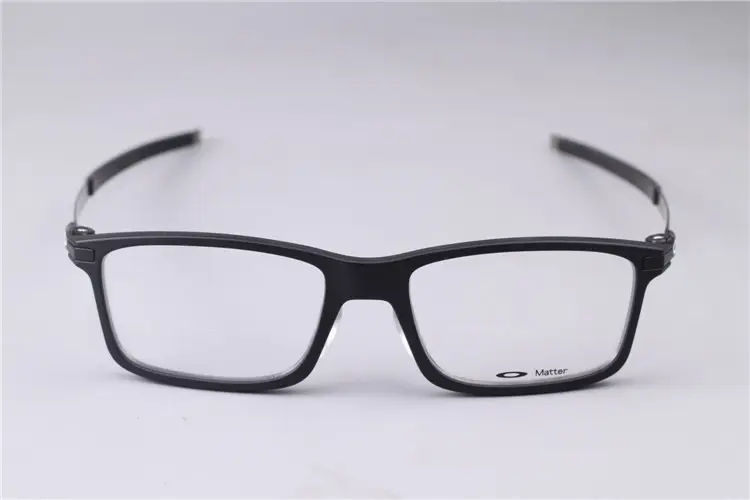glass: (68, 123, 683, 399)
